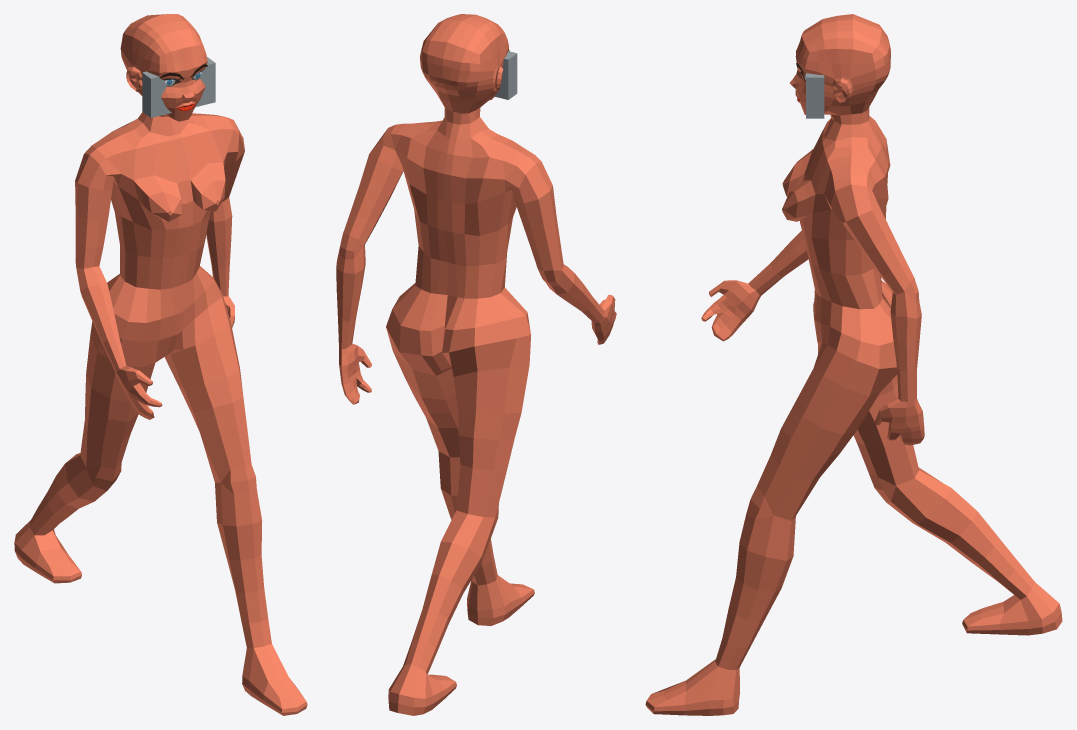
The model's file is Female_Walk_Mask.fbx.
3 views of the same model, side by side, from view 1: azimuth 30°, elevation 25°; view 2: azimuth 150°, elevation 25°; view 3: azimuth 270°, elevation 25° (orthographic). The views are drawn at different scales.
Visible parts, largest first — view 1: Female_Walk_Mask; view 2: Female_Walk_Mask; view 3: Female_Walk_Mask.
Part boxes in pixels (left/top/right/bottom): Female_Walk_Mask: left=14, top=14, right=307, bottom=715; Female_Walk_Mask: left=336, top=14, right=616, bottom=715; Female_Walk_Mask: left=645, top=14, right=1062, bottom=715.
Bounding box in the file's own units: 0.2788 × 0.893 × 0.5039.
